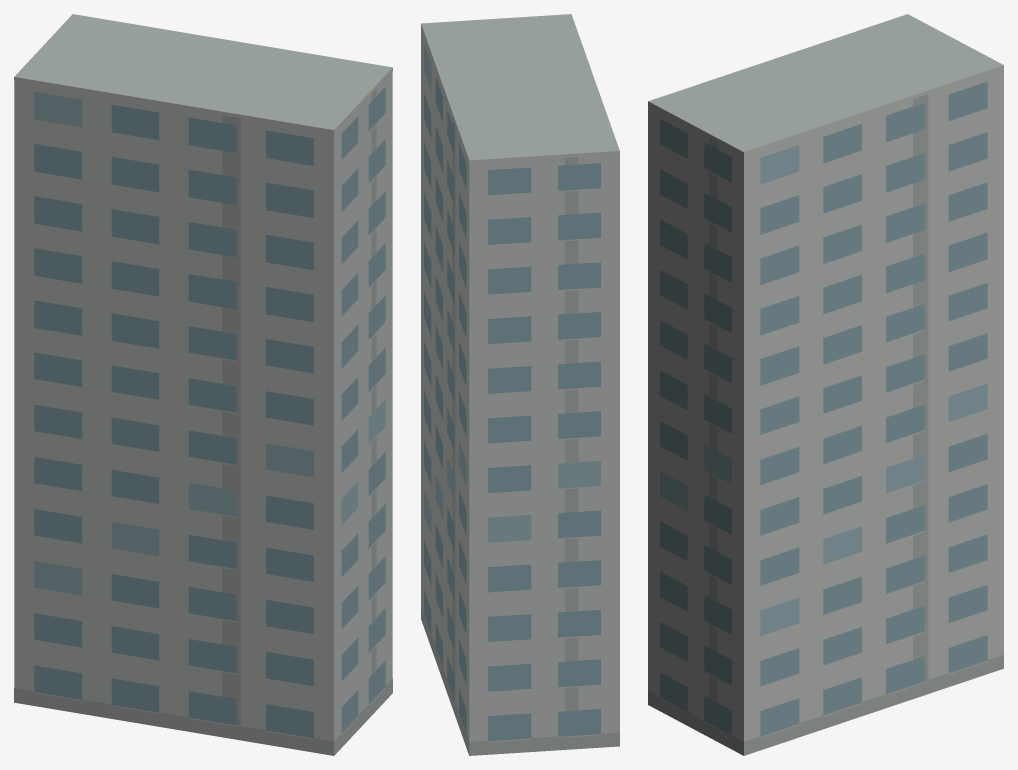
Rendered from residential-93667289-40b3-4050-a5e0-b7f991004bf1.glb.
3 views of the same model, side by side, from view 1: azimuth 30°, elevation 25°; view 2: azimuth 150°, elevation 25°; view 3: azimuth 270°, elevation 25° (orthographic). The views are drawn at different scales.
Visible parts, largest first — view 1: residential-93667289-40b3-4050-a5e0-b7f991004bf1.tmp; view 2: residential-93667289-40b3-4050-a5e0-b7f991004bf1.tmp; view 3: residential-93667289-40b3-4050-a5e0-b7f991004bf1.tmp.
Boxes of the visible parts, x1,y1,x2,y2 form: residential-93667289-40b3-4050-a5e0-b7f991004bf1.tmp: (14,14,392,755); residential-93667289-40b3-4050-a5e0-b7f991004bf1.tmp: (421,14,619,755); residential-93667289-40b3-4050-a5e0-b7f991004bf1.tmp: (648,14,1003,755).
Size of the model in its own units: 20.15 by 41 by 21.91.
